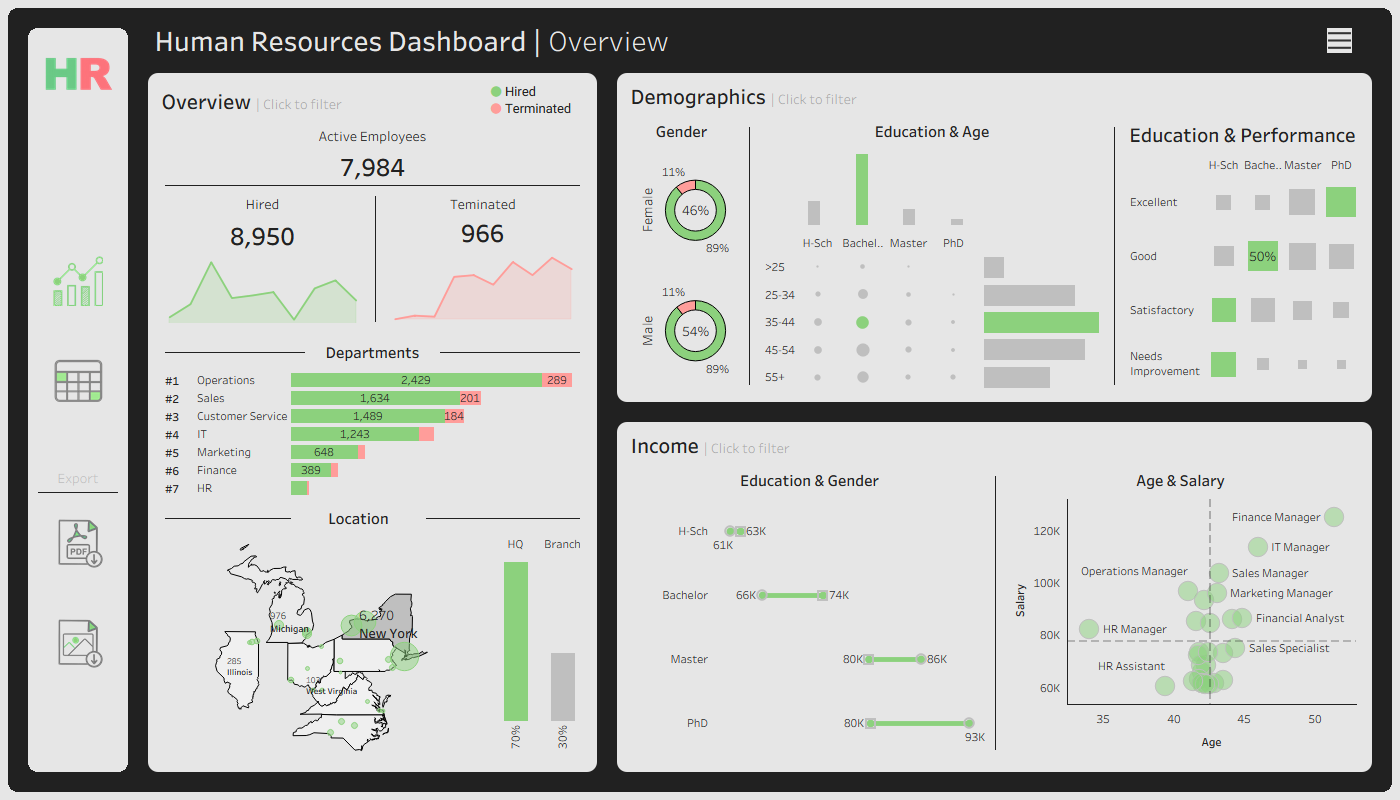

What the dashboard file says about the page in this screenshot:
{"tool":"tableau","page":{"name":"Summary Dashboard","canvas":[1400,800],"ordinal":1},"visuals":[{"type":"text","box":[148,8,1159,65]},{"type":"dashboard-object","box":[1307,8,65,65]},{"type":"filter","title":"Gender vs Education","param":"[federated.0yob5cm1xo00br10v5j7d03hux97].[none:Gender:nk]","box":[773,15,128.3,52]},{"type":"filter","title":"Gender vs Education","param":"[federated.0yob5cm1xo00br10v5j7d03hux97].[none:Calculation_0983581678112768:nk]","box":[901.2,15,128.3,52]},{"type":"blank","box":[1029.5,15,9,52]},{"type":"filter","title":"Gender vs Education","param":"[federated.0yob5cm1xo00br10v5j7d03hux97].[none:Calculation_0565766967013379:nk]","box":[1038.5,15,128.3,52]},{"type":"blank","box":[1166.7,15,9,52]},{"type":"filter","title":"Gender vs Education","param":"[federated.0yob5cm1xo00br10v5j7d03hux97].[yr:Hiredate:ok]","box":[1175.7,15,128.3,52]},{"type":"image","param":"Image/Logo.png","box":[28,28,100,92]},{"type":"text","box":[155,80,329,43]},{"type":"text","box":[484,80,106,43]},{"type":"text","box":[624,80,741,32]},{"type":"text","box":[624,117,115,29]},{"type":"blank","box":[749,117,1,278.5]},{"type":"text","box":[755,117,354,29]},{"type":"blank","box":[1114,117,1,278.5]},{"type":"text","box":[1120,117,245,34]},{"type":"blank","box":[28,120,100,111]},{"type":"text","box":[155,123,435,26]},{"type":"worksheet","title":"Gender Ratio","mark":"Pie","rows":["Gender"],"cols":["Calculation_0565766973345800","Calculation_0565766973345800"],"box":[624,146,115,249.5]},{"type":"worksheet","title":"Education Levels","mark":"Bar","rows":["Nr. Active Employees (copy)_0565766959542272"],"cols":["Education Level"],"box":[755,146,354,83]},{"type":"worksheet","title":"BAN Active","mark":"Text","box":[155,149,435,36]},{"type":"worksheet","title":"Education vs Performance","mark":"Square","rows":["Performance Rating"],"cols":["Education Level"],"box":[1120,151,245,244.5]},{"type":"blank","box":[155,185,435,1]},{"type":"blank","box":[375,186,1,146]},{"type":"text","box":[155,191,215,26]},{"type":"text","box":[381,191,204,26]},{"type":"worksheet","title":"BAN Hired","mark":"Text","box":[155,217,215,37]},{"type":"worksheet","title":"BAN Terminated","mark":"Text","box":[381,217,204,32]},{"type":"worksheet","title":"Age vs Education","mark":"Circle","rows":["Calculation_0565766976552970"],"cols":["Education Level"],"box":[755,229,225,166.5]},{"type":"worksheet","title":"Age Groups","mark":"Bar","rows":["Calculation_0565766976552970"],"cols":["Nr. Active Employees (copy)_0565766959542272"],"box":[980,229,129,166.5]},{"type":"dashboard-object","box":[28,231,100,100]},{"type":"worksheet","title":"Terminated by Year","mark":"Line","rows":["Nr. Active Employees (copy)_0451967388114946","Nr. Active Employees (copy)_0451967388114946"],"cols":["Termdate"],"box":[381,249,204,78]},{"type":"worksheet","title":"Hired by Year","mark":"Line","rows":["Nr. Active Employees (copy)_0565766959542272","Nr. Active Employees (copy)_0565766959542272"],"cols":["Hiredate"],"box":[155,254,215,73]},{"type":"dashboard-object","box":[28,331,100,100]},{"type":"blank","box":[165,337,140,30]},{"type":"text","box":[305,337,135,30]},{"type":"blank","box":[440,337,140,30]},{"type":"worksheet","title":"Departments","mark":"Bar","rows":["Calculation_0565766965854210","Department"],"cols":["Nr. Active Employees (copy)_0565766959542272"],"box":[155,367,435,134]},{"type":"text","box":[624,429.5,741,32]},{"type":"blank","box":[28,431,100,29]},{"type":"text","box":[28,460,100,32]},{"type":"text","box":[629,466.5,361,29]},{"type":"blank","box":[995,466.5,1,293.5]},{"type":"text","box":[1001,466.5,359,29]},{"type":"blank","box":[28,492,100,1]},{"type":"dashboard-object","box":[28,493,100,100]},{"type":"worksheet","title":"Gender vs Education","mark":"Shape","rows":["Education Level"],"cols":["Salary","Salary"],"box":[629,495.5,361,264.5]},{"type":"worksheet","title":"Age vs Salary","mark":"Circle","rows":["Salary"],"cols":["Calculation_0565766975242249"],"box":[1001,495.5,359,264.5]},{"type":"blank","box":[165,506,126,24]},{"type":"text","box":[291,506,135,24]},{"type":"blank","box":[426,506,154,24]},{"type":"worksheet","title":"Map State","mark":"Automatic","box":[155,530,333,235]},{"type":"worksheet","title":"Location","mark":"Bar","rows":["Nr. Active Employees (copy)_0565766959542272"],"cols":["Calculation_0565766967013379"],"box":[488,530,102,235]},{"type":"dashboard-object","box":[28,593,100,100]}]}

Visuals, with their boxes on the page's 1400x800 design canvas (x1, y1, x2, y2). These are canvas units, not pixel positions in the 1400x800 screenshot, which may show the page scaled, cropped or inside an application window:
text: [left=148, top=8, right=1307, bottom=73]
dashboard-object: [left=1307, top=8, right=1372, bottom=73]
"Gender vs Education" filter: [left=773, top=15, right=901, bottom=67]
"Gender vs Education" filter: [left=901, top=15, right=1030, bottom=67]
blank: [left=1030, top=15, right=1038, bottom=67]
"Gender vs Education" filter: [left=1038, top=15, right=1167, bottom=67]
blank: [left=1167, top=15, right=1176, bottom=67]
"Gender vs Education" filter: [left=1176, top=15, right=1304, bottom=67]
image: [left=28, top=28, right=128, bottom=120]
text: [left=155, top=80, right=484, bottom=123]
text: [left=484, top=80, right=590, bottom=123]
text: [left=624, top=80, right=1365, bottom=112]
text: [left=624, top=117, right=739, bottom=146]
blank: [left=749, top=117, right=750, bottom=396]
text: [left=755, top=117, right=1109, bottom=146]
blank: [left=1114, top=117, right=1115, bottom=396]
text: [left=1120, top=117, right=1365, bottom=151]
blank: [left=28, top=120, right=128, bottom=231]
text: [left=155, top=123, right=590, bottom=149]
"Gender Ratio" worksheet (Pie marks): [left=624, top=146, right=739, bottom=396]
"Education Levels" worksheet (Bar marks): [left=755, top=146, right=1109, bottom=229]
"BAN Active" worksheet (Text marks): [left=155, top=149, right=590, bottom=185]
"Education vs Performance" worksheet (Square marks): [left=1120, top=151, right=1365, bottom=396]
blank: [left=155, top=185, right=590, bottom=186]
blank: [left=375, top=186, right=376, bottom=332]
text: [left=155, top=191, right=370, bottom=217]
text: [left=381, top=191, right=585, bottom=217]
"BAN Hired" worksheet (Text marks): [left=155, top=217, right=370, bottom=254]
"BAN Terminated" worksheet (Text marks): [left=381, top=217, right=585, bottom=249]
"Age vs Education" worksheet (Circle marks): [left=755, top=229, right=980, bottom=396]
"Age Groups" worksheet (Bar marks): [left=980, top=229, right=1109, bottom=396]
dashboard-object: [left=28, top=231, right=128, bottom=331]
"Terminated by Year" worksheet (Line marks): [left=381, top=249, right=585, bottom=327]
"Hired by Year" worksheet (Line marks): [left=155, top=254, right=370, bottom=327]
dashboard-object: [left=28, top=331, right=128, bottom=431]
blank: [left=165, top=337, right=305, bottom=367]
text: [left=305, top=337, right=440, bottom=367]
blank: [left=440, top=337, right=580, bottom=367]
"Departments" worksheet (Bar marks): [left=155, top=367, right=590, bottom=501]
text: [left=624, top=430, right=1365, bottom=462]
blank: [left=28, top=431, right=128, bottom=460]
text: [left=28, top=460, right=128, bottom=492]
text: [left=629, top=466, right=990, bottom=496]
blank: [left=995, top=466, right=996, bottom=760]
text: [left=1001, top=466, right=1360, bottom=496]
blank: [left=28, top=492, right=128, bottom=493]
dashboard-object: [left=28, top=493, right=128, bottom=593]
"Gender vs Education" worksheet (Shape marks): [left=629, top=496, right=990, bottom=760]
"Age vs Salary" worksheet (Circle marks): [left=1001, top=496, right=1360, bottom=760]
blank: [left=165, top=506, right=291, bottom=530]
text: [left=291, top=506, right=426, bottom=530]
blank: [left=426, top=506, right=580, bottom=530]
"Map State" worksheet: [left=155, top=530, right=488, bottom=765]
"Location" worksheet (Bar marks): [left=488, top=530, right=590, bottom=765]
dashboard-object: [left=28, top=593, right=128, bottom=693]
